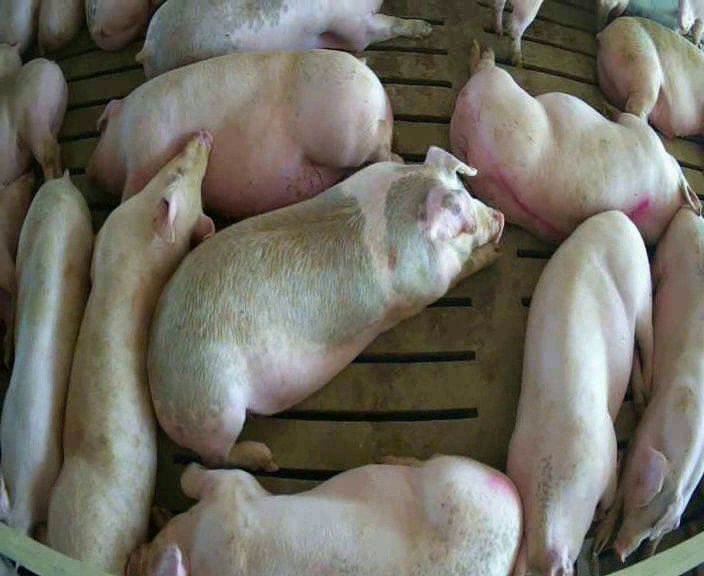pig: (48, 131, 213, 573), (88, 50, 403, 217), (507, 211, 652, 573), (450, 46, 699, 243), (128, 456, 520, 574), (593, 208, 703, 562), (0, 172, 92, 546), (138, 1, 430, 77), (597, 17, 703, 137), (0, 58, 67, 184), (85, 1, 154, 49), (38, 1, 81, 54)
